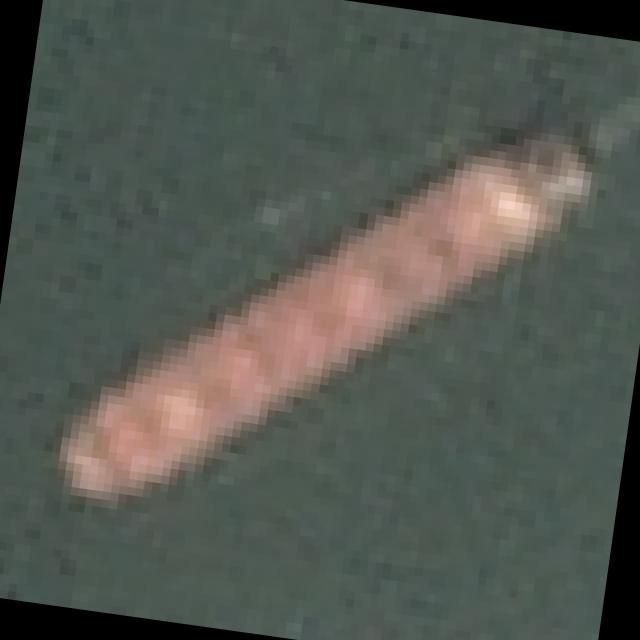ship: (22, 48, 612, 595)
